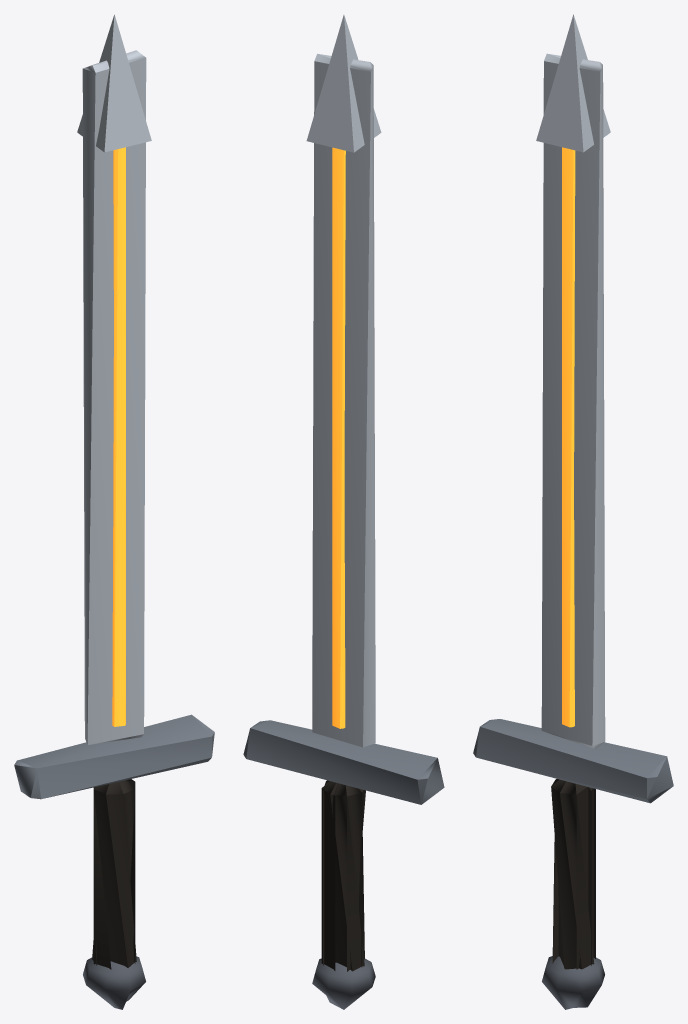
File: power_sword_lod1.glb
The picture shows the model from 3 angles, left to right: view 1: azimuth 30°, elevation 25°; view 2: azimuth 150°, elevation 25°; view 3: azimuth 330°, elevation 25°; orthographic projection.
Parts seen in each view (by area): view 1: weapon.power_sword; view 2: weapon.power_sword; view 3: weapon.power_sword.
Boxes of the visible parts, bbox=[...] form: weapon.power_sword: bbox=[14, 14, 214, 1009]; weapon.power_sword: bbox=[243, 15, 444, 1009]; weapon.power_sword: bbox=[473, 14, 673, 1009].
Bounding box in the file's own units: 0.2134 × 1.1 × 0.0659.
